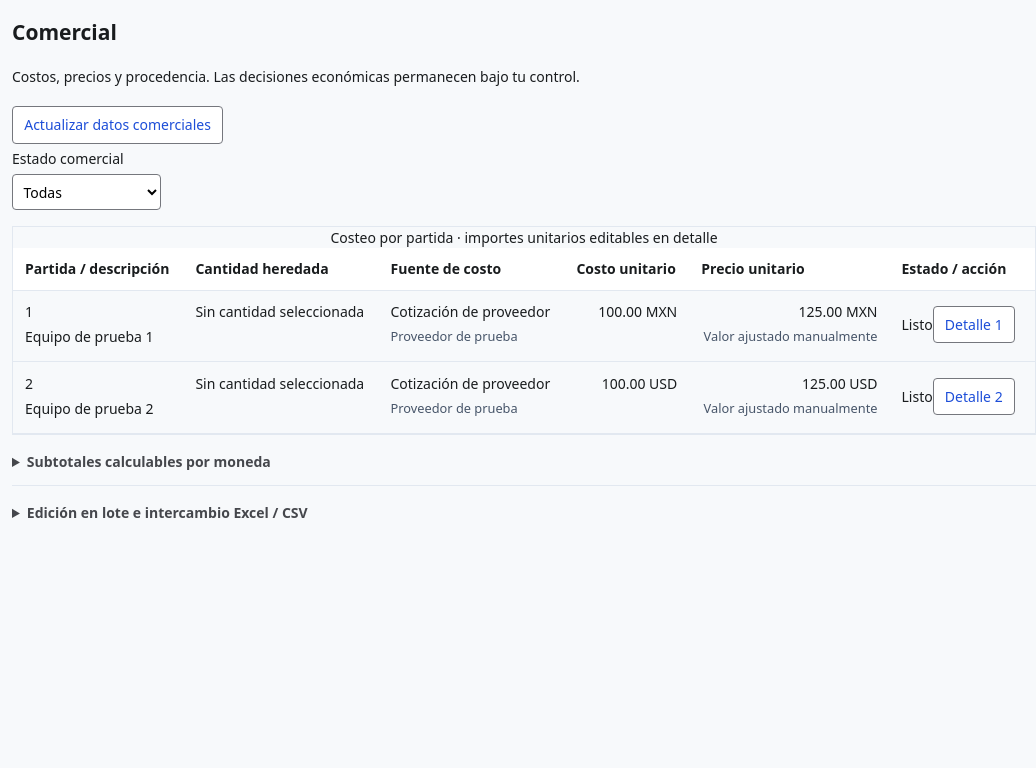
Scenario: UIR5-06/07: missing quote has no fabricated expiry or supplier score
Step 1. Click the button "Detalle 1" → {"x": 974, "y": 325}, box [933, 306, 1015, 343]
(page scrolled)
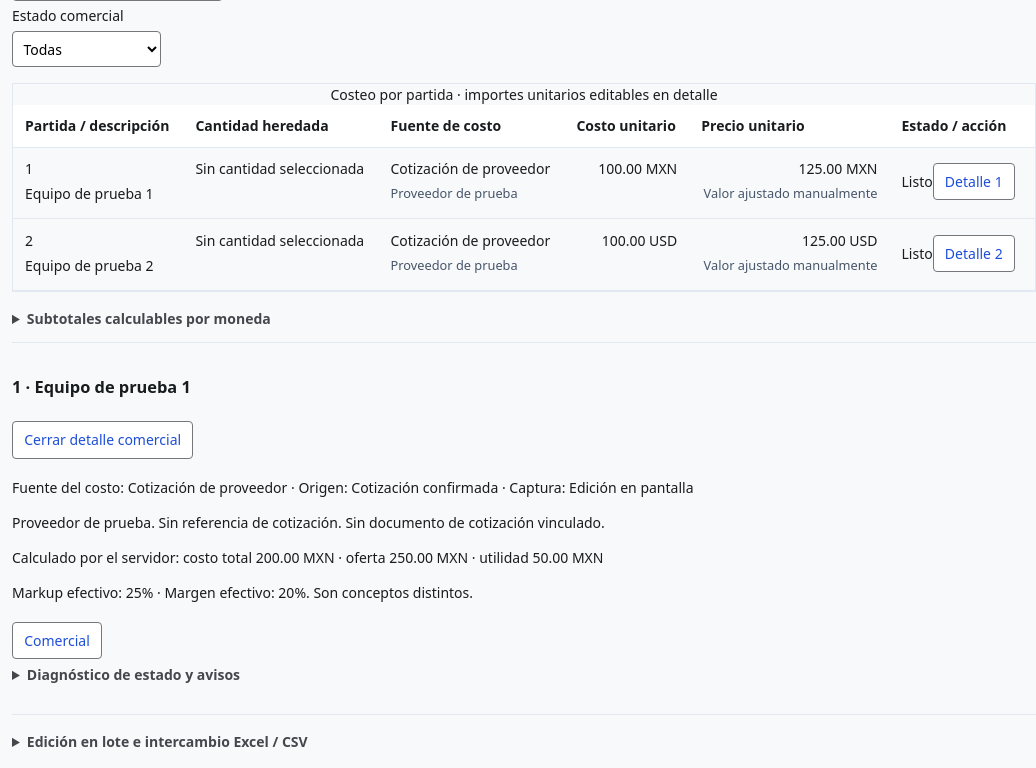
Now the element labelled "detalle comercial" shows "Sin referencia de cotización", box [158, 513, 338, 532]
Now the element labelled "detalle comercial" shows "Sin documento de cotización vinculado", box [345, 513, 601, 532]
